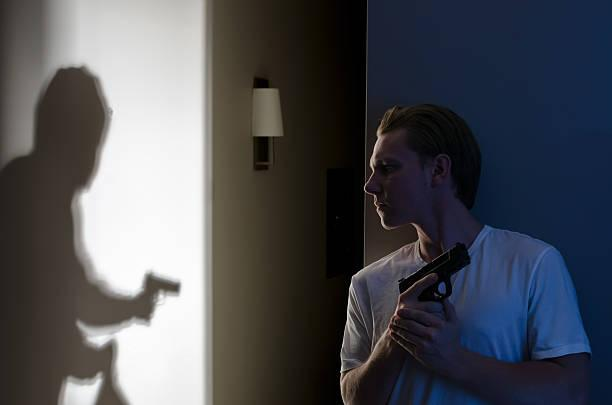weapon: (393, 240, 473, 305)
